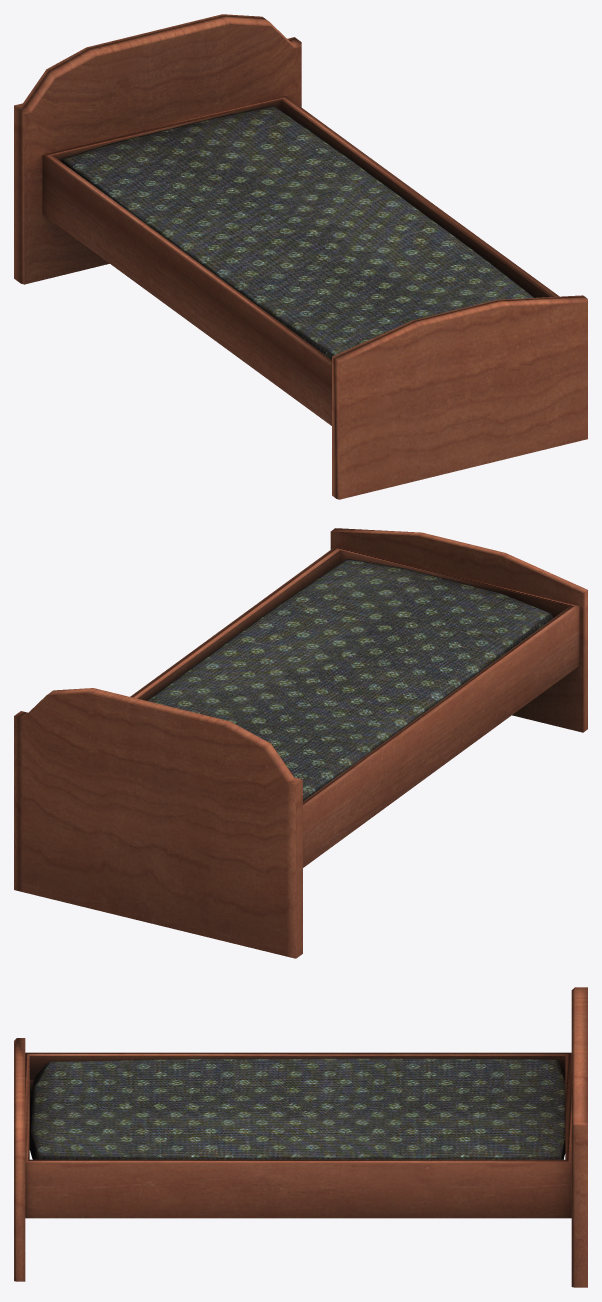
File: ruheraum_bett.fbx
The picture shows the model from 3 angles, top to bottom: view 1: azimuth 30°, elevation 25°; view 2: azimuth 150°, elevation 25°; view 3: azimuth 270°, elevation 25°; orthographic projection. The views are drawn at different scales.
Parts seen in each view (by area): view 1: Mesh; view 2: Mesh; view 3: Mesh.
Boxes of the visible parts, x1,y1,x2,y2 form: Mesh: (14,14,587,499); Mesh: (14,528,587,958); Mesh: (14,987,587,1287).
Bounding box in the file's own units: 112 × 81.43 × 213.
